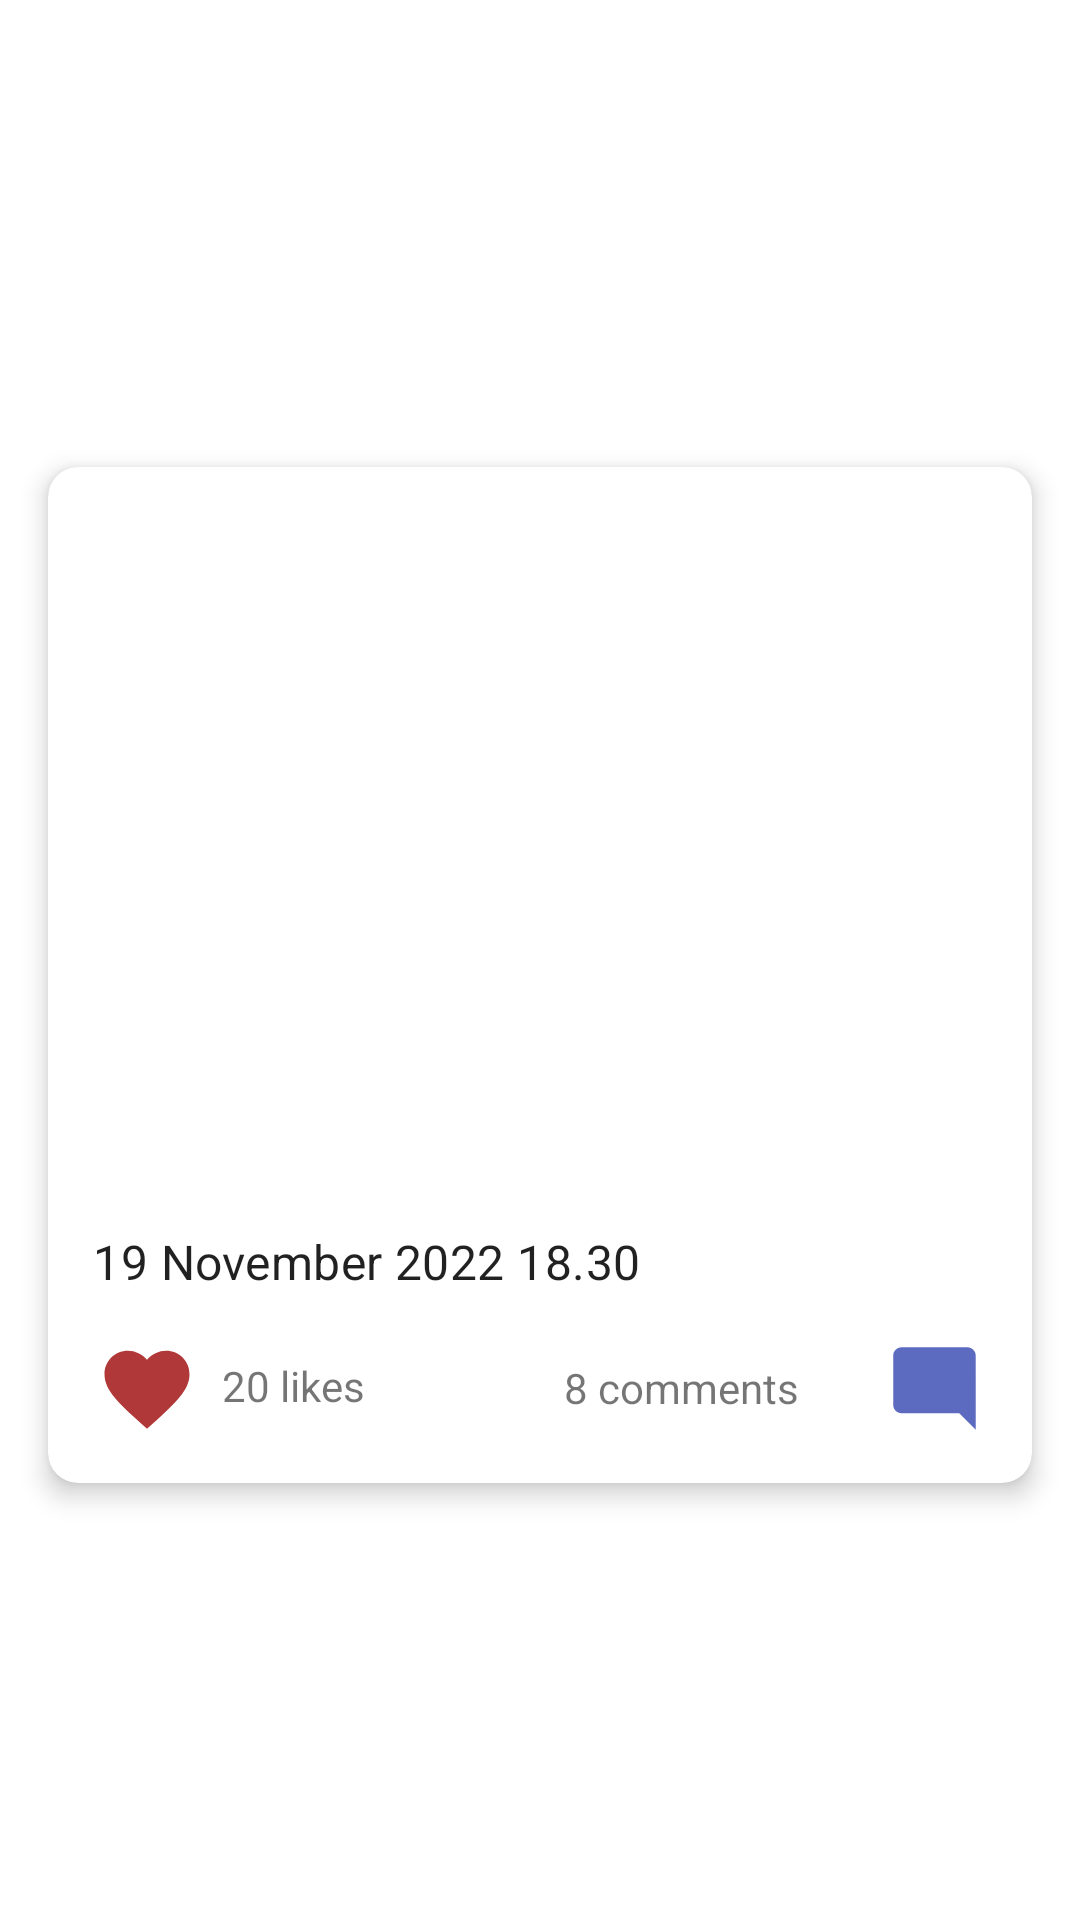

Icon bounding boxes for this 1080w x 1920h phone screenshot, format [x1, y1, x2, y2]:
favorite: [104, 1350, 190, 1429]
mode comment: [893, 1347, 976, 1430]
